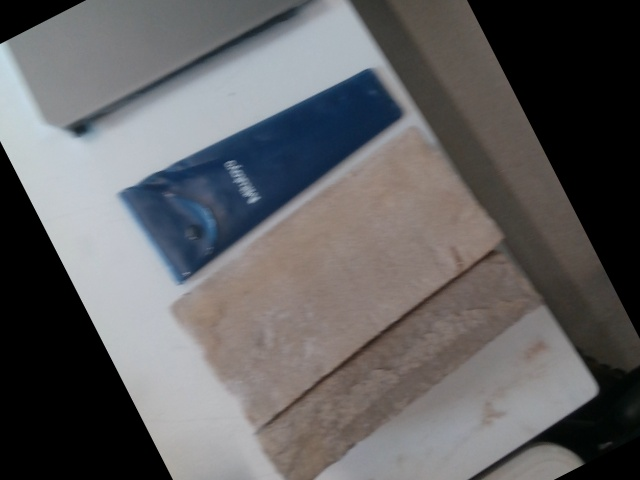brick: (172, 125, 500, 419)
